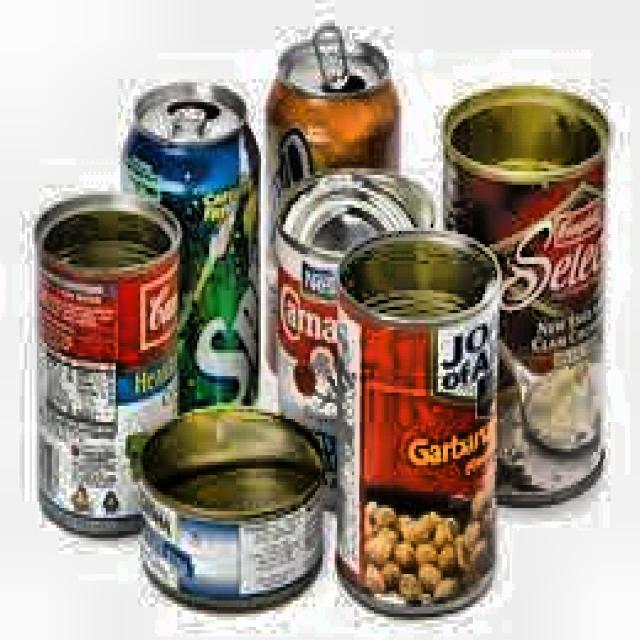can: (437, 73, 616, 517), (333, 222, 502, 620), (272, 162, 444, 512), (30, 189, 184, 544), (260, 17, 408, 384), (117, 73, 262, 421), (134, 397, 332, 620)
